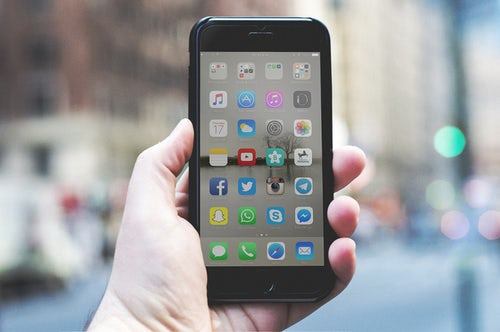phone: (185, 14, 340, 311)
